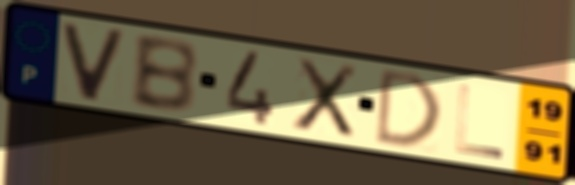4: (224, 49, 276, 128)
B: (128, 34, 201, 116)
D: (371, 65, 445, 150)
L: (452, 82, 507, 162)
V: (58, 20, 130, 104)
X: (289, 55, 361, 141)
